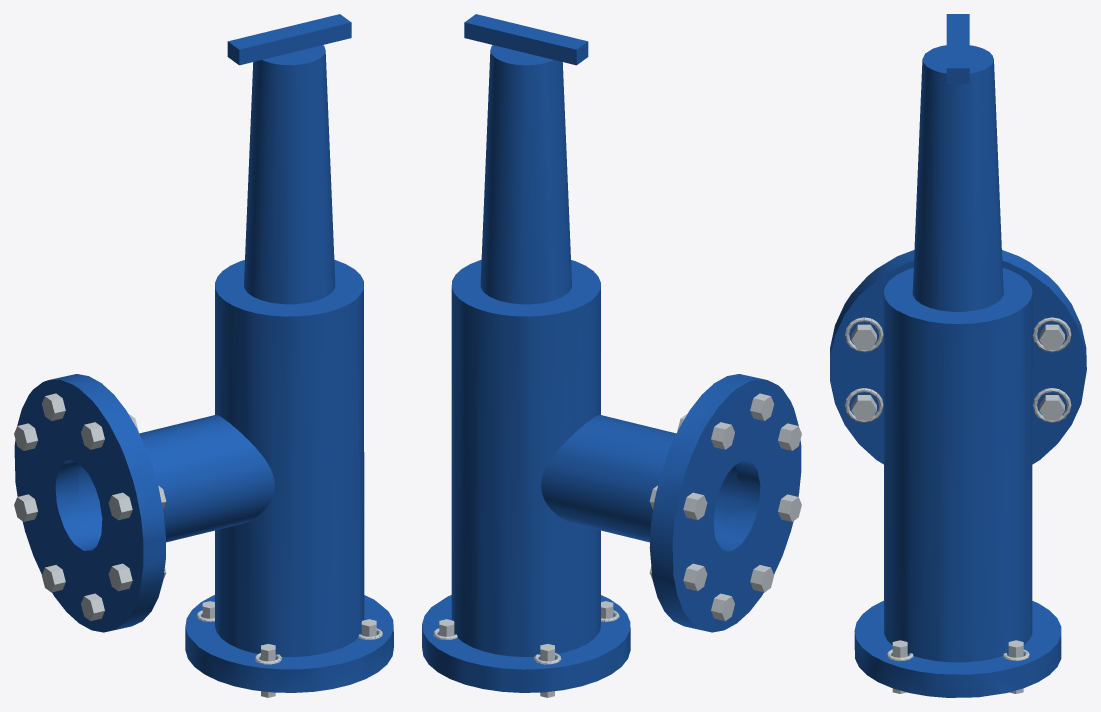
The model's file is safety__relief-shape-DVzuiph9.glb.
3 renders of one model, left to right at view 1: azimuth 30°, elevation 25°; view 2: azimuth 150°, elevation 25°; view 3: azimuth 270°, elevation 25°, orthographic.
Visible parts, largest first — view 1: safety_1 / blue, safety_1 / steel; view 2: safety_1 / blue, safety_1 / steel; view 3: safety_1 / blue, safety_1 / steel.
Boxes of the visible parts, x1,y1,x2,y2 form: safety_1 / blue: (14, 14, 393, 692); safety_1 / steel: (14, 393, 382, 697); safety_1 / blue: (422, 14, 801, 692); safety_1 / steel: (433, 393, 801, 697); safety_1 / blue: (830, 14, 1086, 697); safety_1 / steel: (845, 317, 1071, 693).
Bounding box in the file's own units: 0.2502 × 0.482 × 0.1796.
